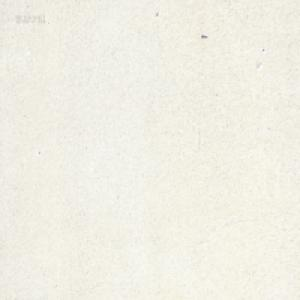Nail: (201, 33, 208, 38)
